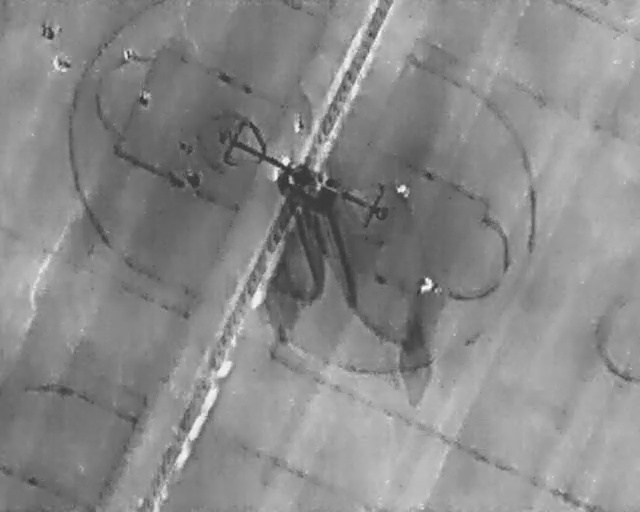Person: (51, 53, 72, 73), (187, 169, 202, 197), (421, 275, 438, 297), (138, 86, 151, 106), (397, 180, 410, 199), (121, 48, 135, 62)
